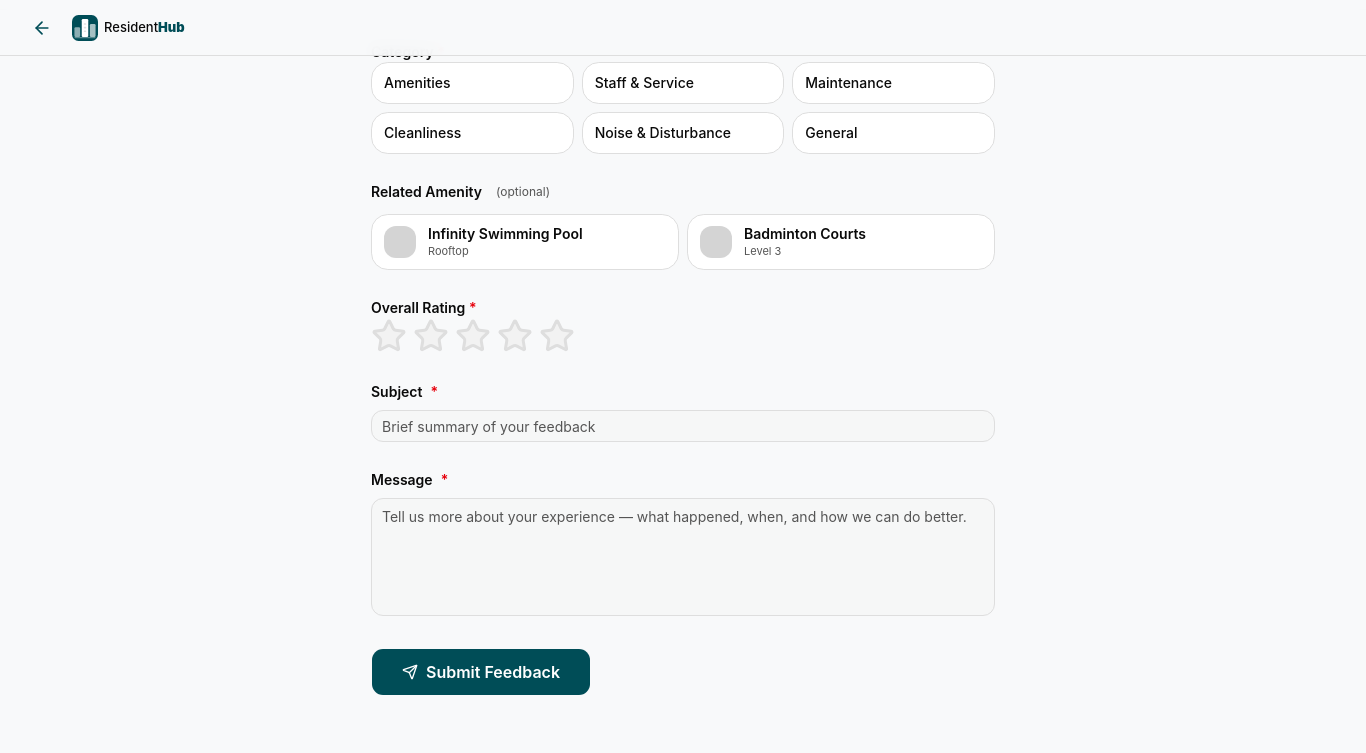
FeedbackPage › shows validation errors on empty submit
The image size is (1366, 753).
(page scrolled)
Click the button "Submit Feedback" at (481, 672), box [371,648,591,696]
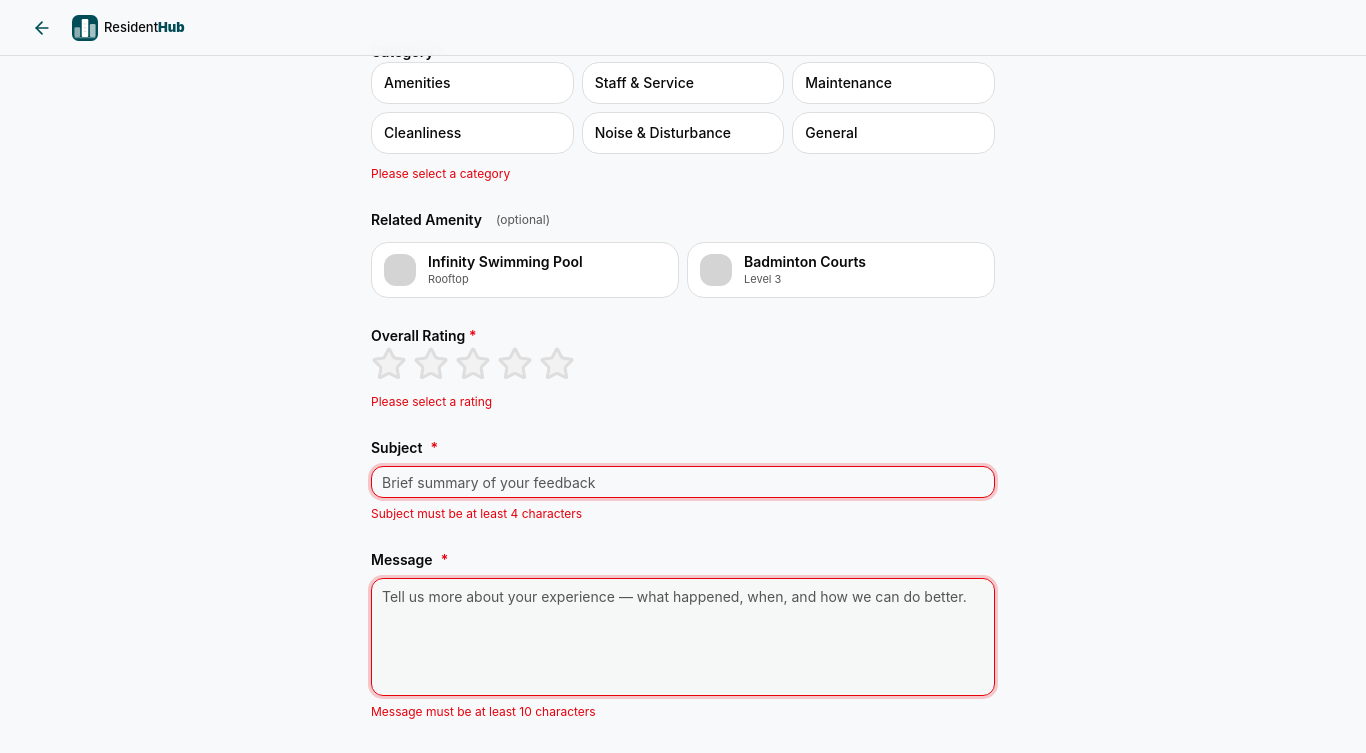
Expected: the message "Please select a category" is shown, [371,166,510,181]
